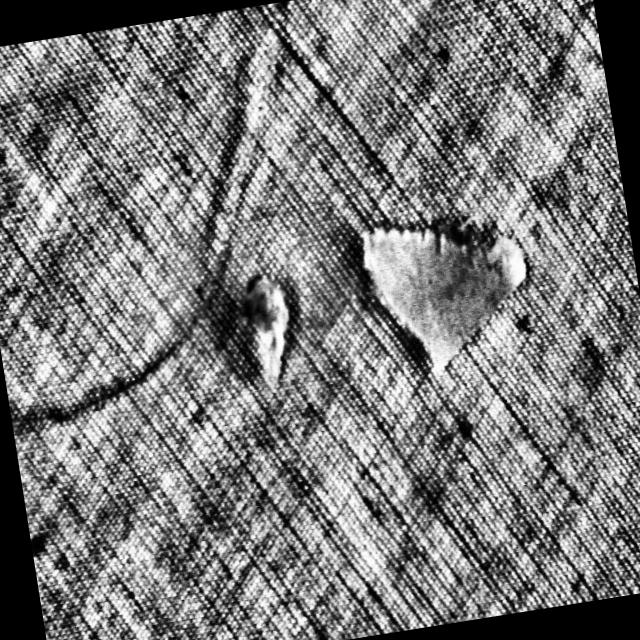gray stitch: (0, 256, 251, 450), (353, 197, 546, 381), (233, 262, 310, 392)
